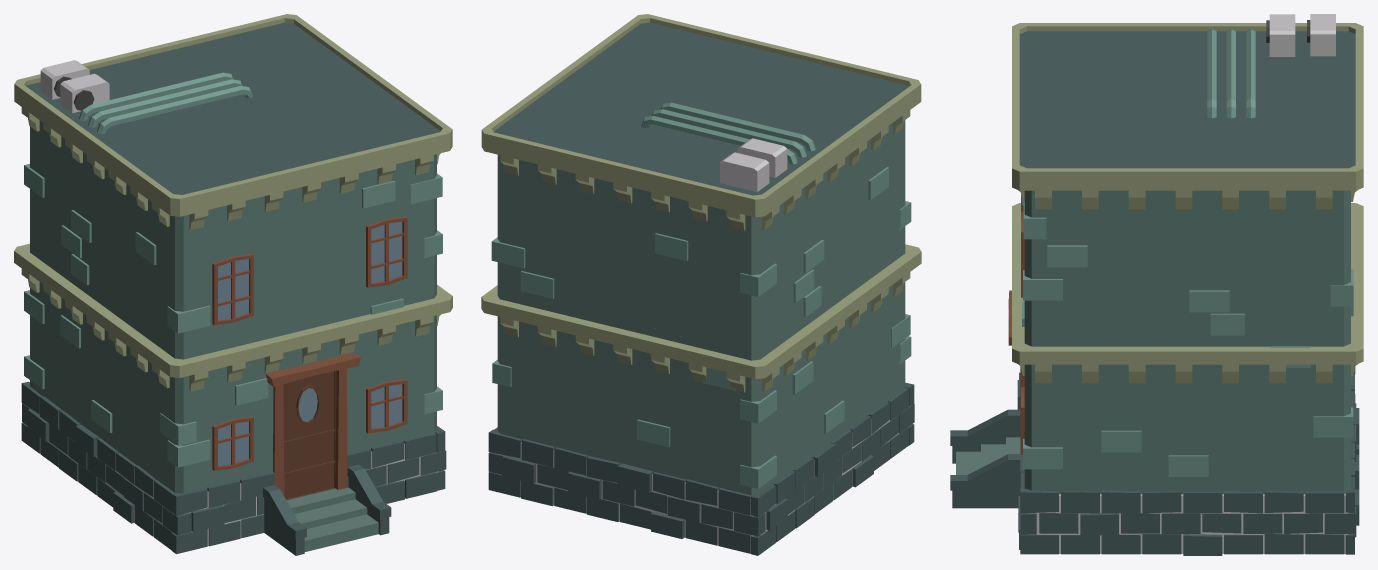
Rendered from 2Story Stairs.glb.
The picture shows the model from 3 angles, left to right: view 1: azimuth 30°, elevation 25°; view 2: azimuth 150°, elevation 25°; view 3: azimuth 270°, elevation 25°; orthographic projection. The views are drawn at different scales.
Visible parts, largest first — view 1: 2Story_Stairs; view 2: 2Story_Stairs; view 3: 2Story_Stairs.
Part boxes in pixels (x1,y1,x2,y2): 2Story_Stairs: [14, 14, 452, 555]; 2Story_Stairs: [481, 14, 921, 555]; 2Story_Stairs: [950, 14, 1363, 555].
Size of the model in its own units: 5.18 by 6.59 by 6.08.
1 material, 1 textured.
